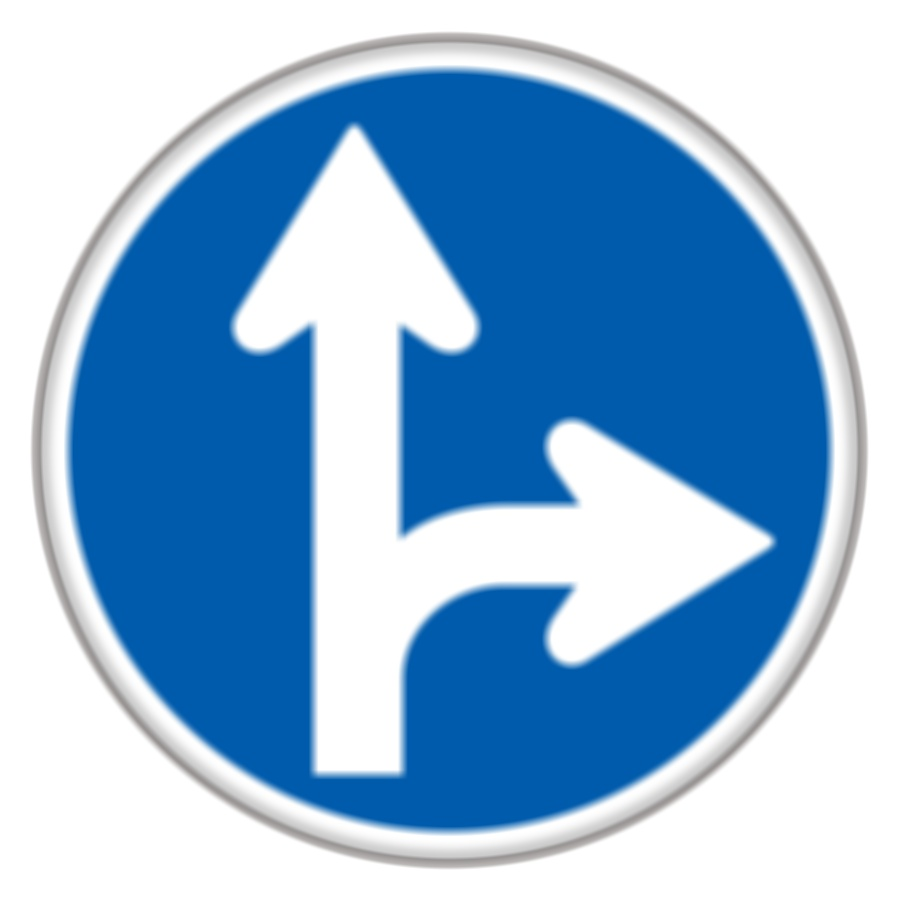Direction_sign: (24, 30, 882, 859)
